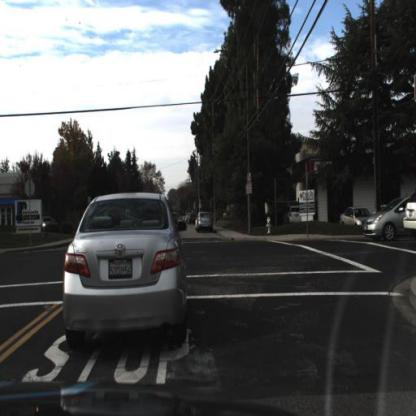car: (62, 181, 192, 341), (359, 183, 406, 256), (340, 192, 367, 238), (281, 200, 309, 234), (192, 205, 219, 237), (38, 210, 57, 239)
